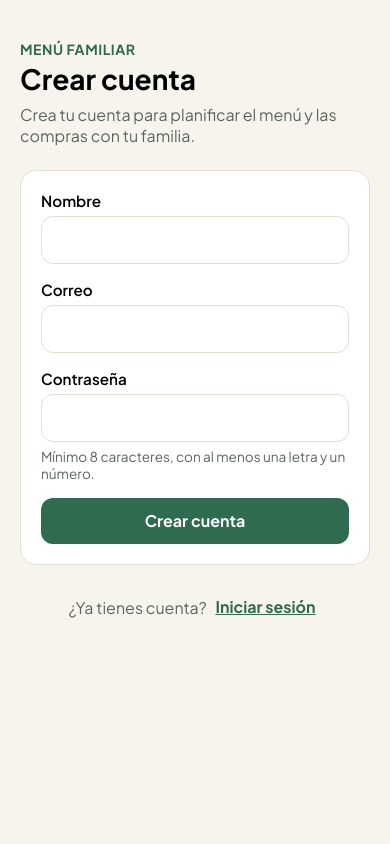
Crear cuenta (HU-01) › valida nombre y correo antes de enviar
Check: the heading "Crear cuenta" is shown, box [20,61,196,96]
In the field labelled "Correo": coordinates (195, 329) [41,305,349,353], type "no-es-correo"
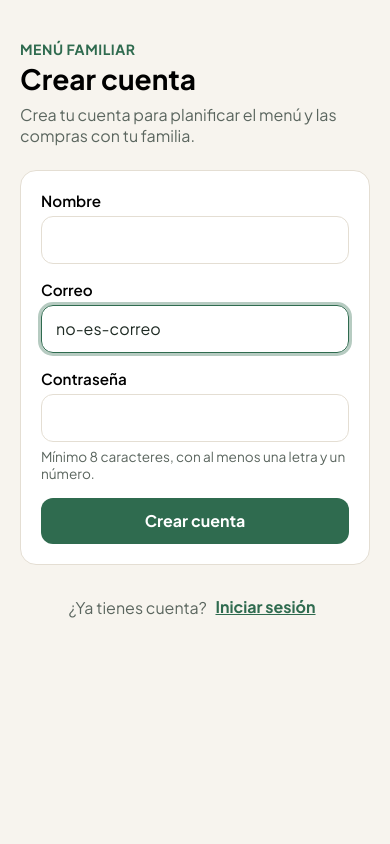
In the password field labelled "Contraseña": coordinates (195, 418) [41,394,349,442], type "Almuerzo2026"
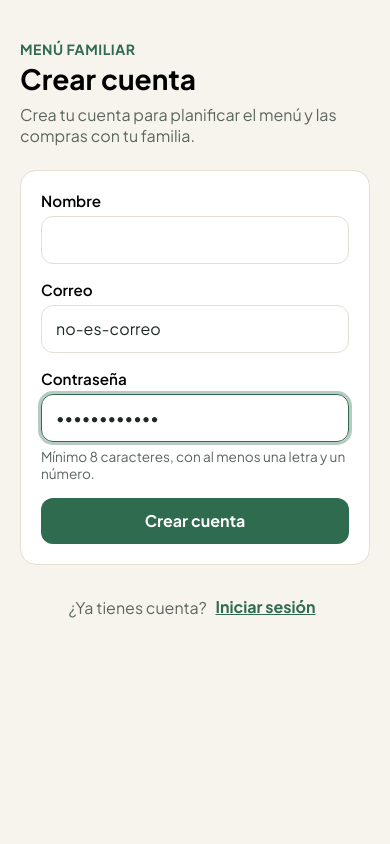
Click the button "Crear cuenta": coordinates (195, 521) [41,498,349,544]
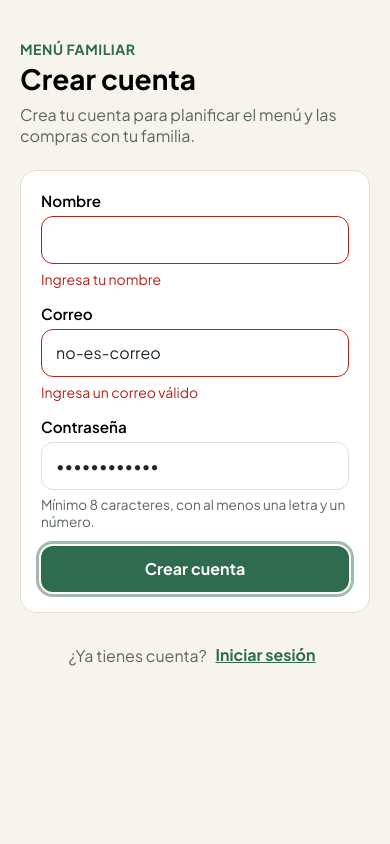
Check: the text "Ingresa tu nombre" is shown, box [41,270,161,288]
Check: the text "Ingresa un correo válido" is shown, box [41,383,198,401]
